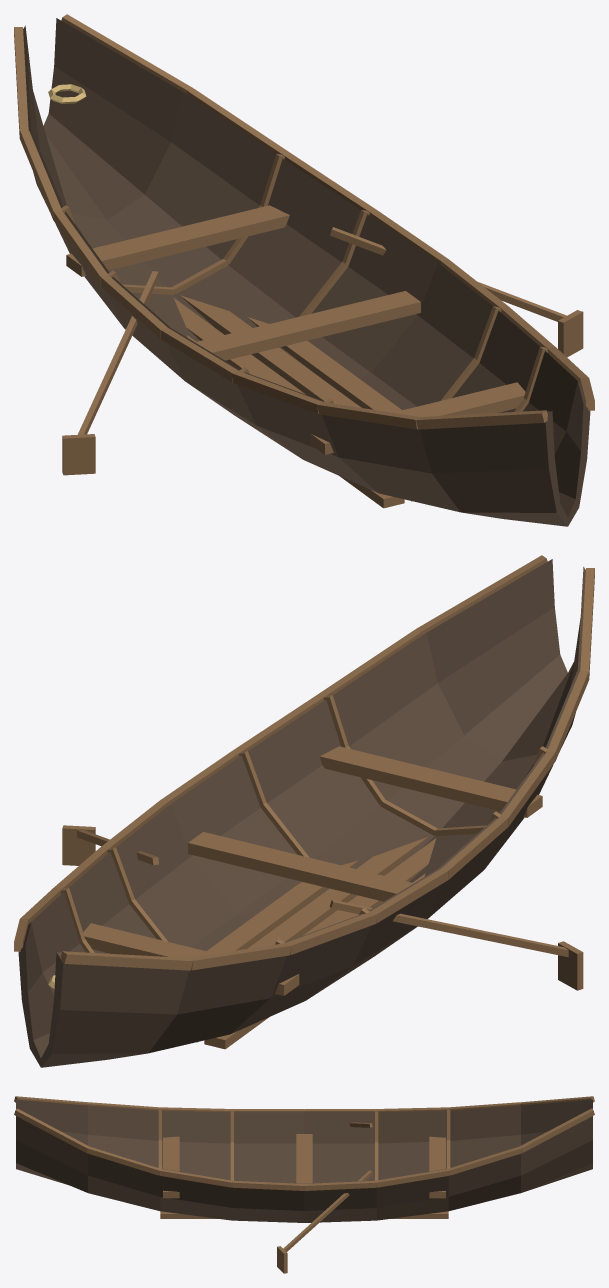
Rendered from KOL_HBR_PROP_14.fbx.
The picture shows the model from 3 angles, top to bottom: view 1: azimuth 30°, elevation 25°; view 2: azimuth 150°, elevation 25°; view 3: azimuth 270°, elevation 25°; orthographic projection. The views are drawn at different scales.
Visible parts, largest first — view 1: KOL_HBR_PROP_14__Model__DarkWood, KOL_HBR_PROP_14__Model__Timber; view 2: KOL_HBR_PROP_14__Model__DarkWood, KOL_HBR_PROP_14__Model__Timber; view 3: KOL_HBR_PROP_14__Model__DarkWood, KOL_HBR_PROP_14__Model__Timber.
Boxes of the visible parts, x1,y1,x2,y2 form: KOL_HBR_PROP_14__Model__DarkWood: [23, 18, 590, 526]; KOL_HBR_PROP_14__Model__Timber: [14, 14, 594, 508]; KOL_HBR_PROP_14__Model__DarkWood: [18, 559, 585, 1067]; KOL_HBR_PROP_14__Model__Timber: [14, 555, 594, 1049]; KOL_HBR_PROP_14__Model__DarkWood: [16, 1099, 592, 1222]; KOL_HBR_PROP_14__Model__Timber: [14, 1096, 594, 1273].
Bounding box in the file's own units: 14.81 × 5.47 × 26.17.
